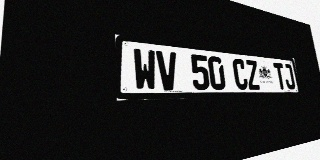0: (207, 56, 226, 90)
5: (190, 54, 210, 90)
C: (232, 58, 249, 90)
J: (283, 63, 296, 89)
T: (273, 62, 287, 89)
V: (156, 50, 179, 90)
W: (133, 48, 158, 91)
Z: (245, 60, 261, 90)
